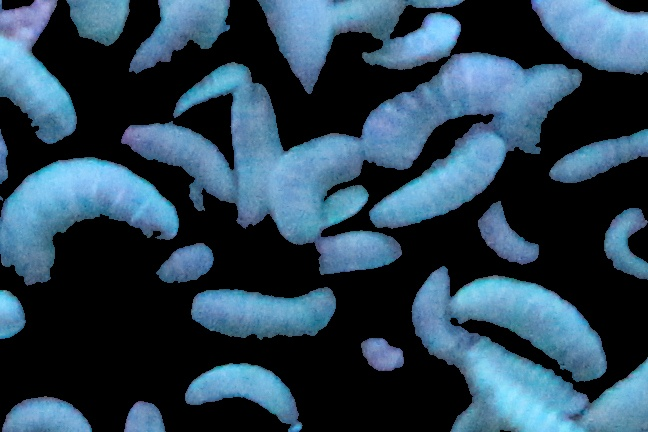larvae: (1, 153, 178, 287), (456, 267, 619, 394), (365, 51, 520, 155), (365, 123, 511, 231), (264, 131, 369, 248), (406, 269, 501, 380), (189, 286, 347, 347), (233, 91, 294, 242), (502, 54, 588, 158), (1, 21, 72, 143), (129, 115, 233, 197), (529, 1, 648, 70), (360, 10, 471, 74), (186, 364, 303, 420), (468, 368, 570, 432), (546, 133, 648, 183), (168, 58, 253, 110), (5, 390, 100, 432), (317, 227, 405, 270), (597, 206, 648, 279), (474, 213, 541, 261), (324, 186, 368, 222)
